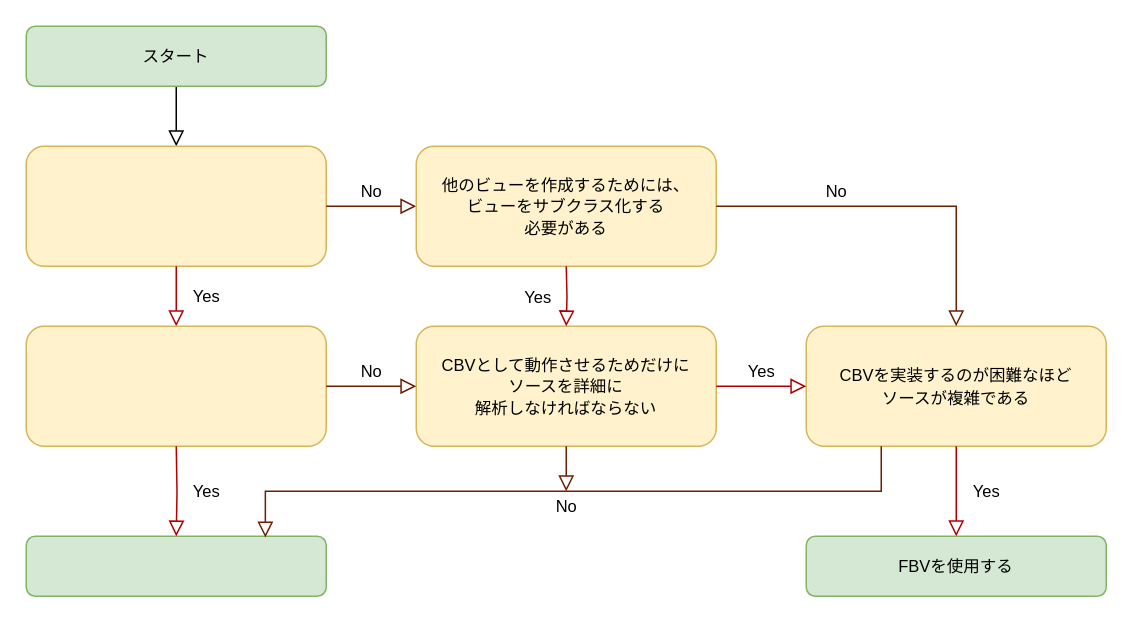
Image size: 1133x623. Some labels were removed from this diagram. The box of each missing label's shape, as (x1, y1, x2, y2) in pixels:
CBVを使用する: (25, 535, 326, 596)
一般的なCBVの中で、 今回の用途にあてはまりそうな ものがある: (25, 145, 326, 266)
属性をオーバーライドするだけで CBVを使うことができる: (25, 325, 326, 446)
